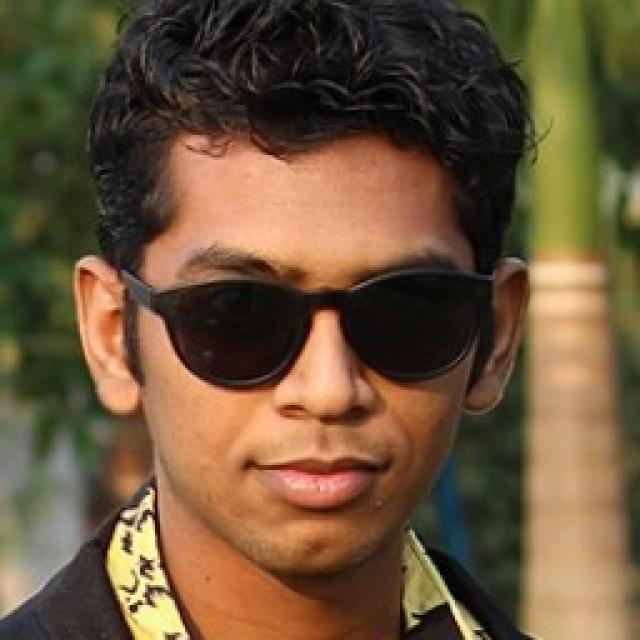glasses: (121, 255, 507, 396)
